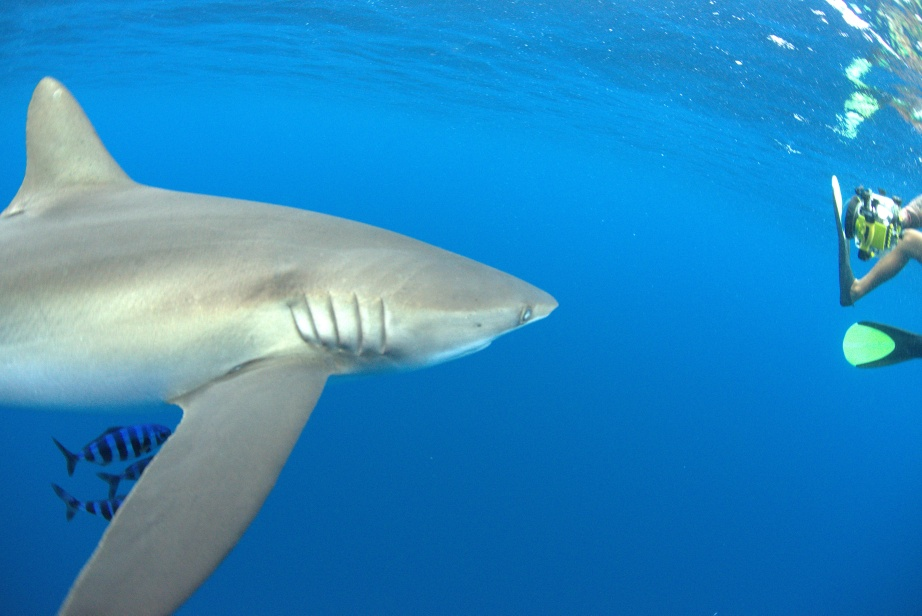Sedoso: (4, 74, 578, 616)
